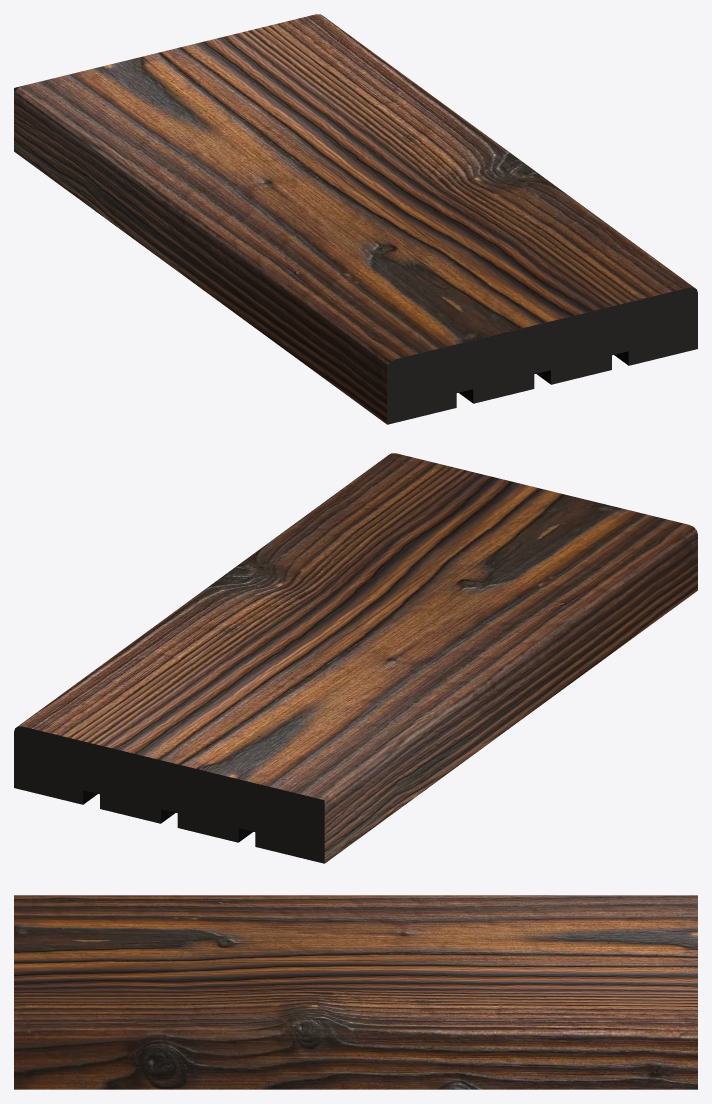
Rendered from spruce-terrace.glb.
3 renders of one model, top to bottom at view 1: azimuth 30°, elevation 25°; view 2: azimuth 150°, elevation 25°; view 3: azimuth 270°, elevation 25°, orthographic. The views are drawn at different scales.
Parts seen in each view (by area): view 1: Staciakampis; view 2: Staciakampis; view 3: Staciakampis.
Part boxes in pixels (<box>): Staciakampis: <box>14,14,697,424</box>; Staciakampis: <box>14,453,697,863</box>; Staciakampis: <box>14,895,697,1089</box>.
Bounding box in the file's own units: 0.0885 × 0.0173 × 0.1843.
3 materials, 1 textured.
